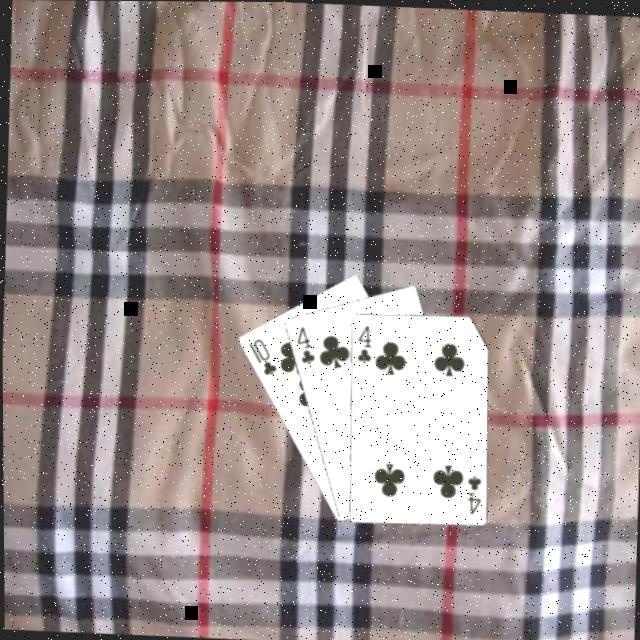10C: (243, 335, 279, 378)
4C: (291, 323, 318, 368), (463, 471, 485, 518), (353, 322, 375, 367)
